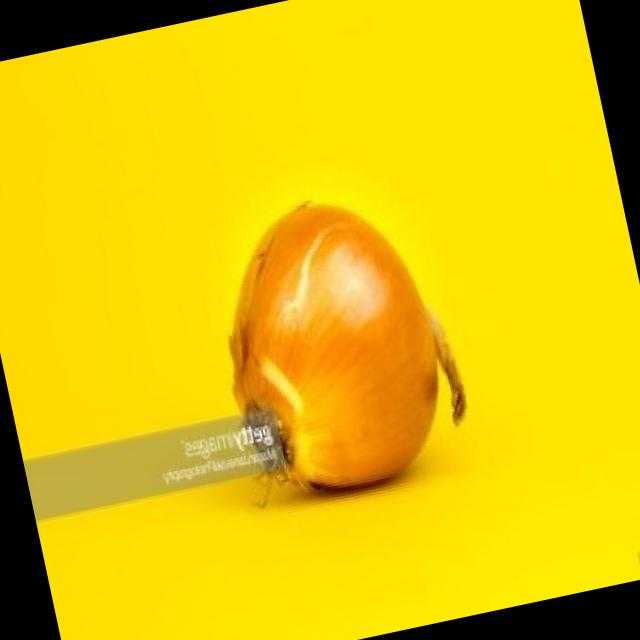Onion: (192, 170, 482, 518)
